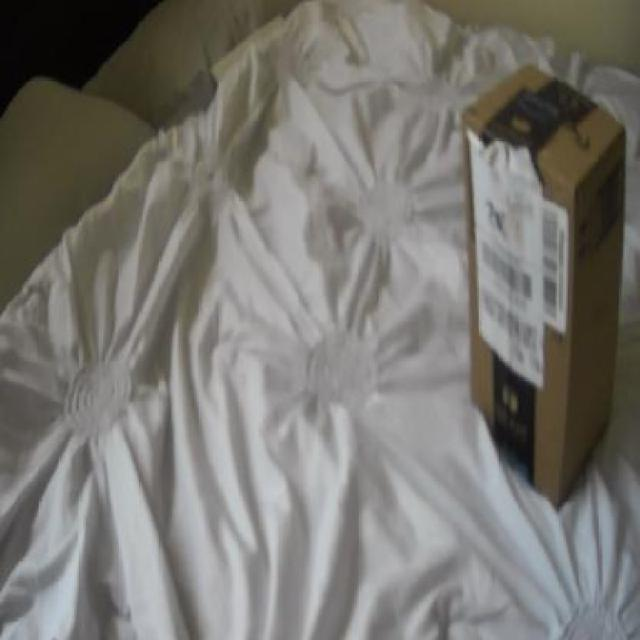cardboxes: (458, 53, 628, 518)
